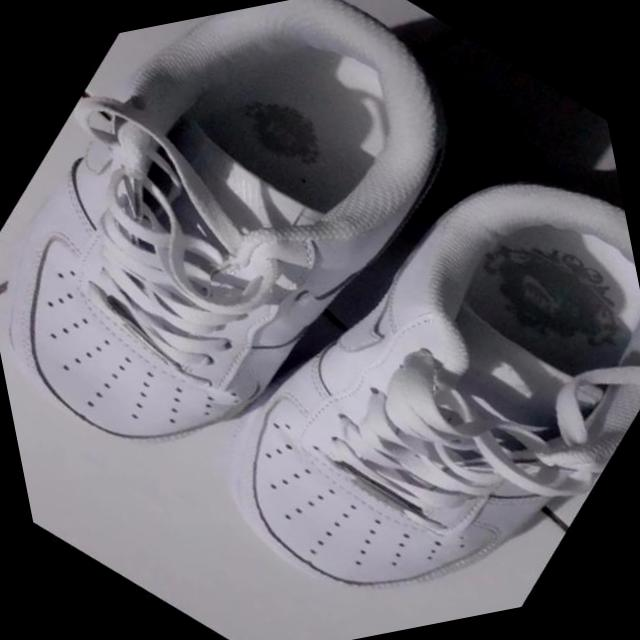nike_fake_airforce: (0, 0, 561, 552), (132, 70, 640, 640)
